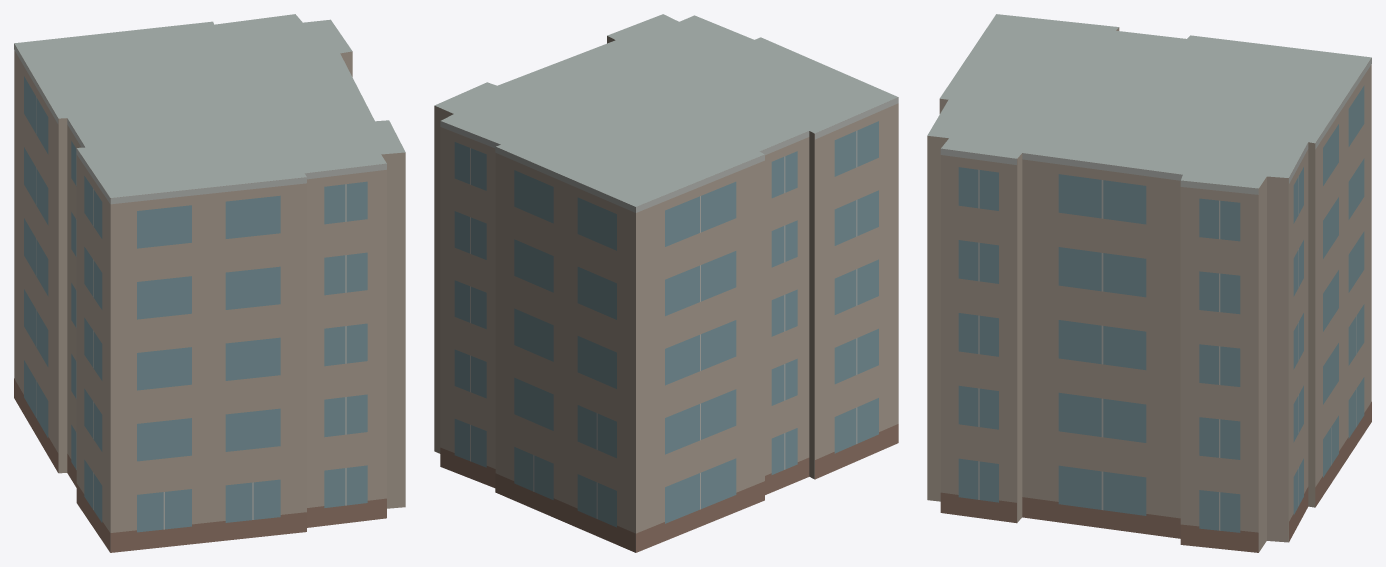
File: survey-upis-32839100.glb
3 renders of one model, left to right at view 1: azimuth 30°, elevation 25°; view 2: azimuth 150°, elevation 25°; view 3: azimuth 270°, elevation 25°, orthographic. The views are drawn at different scales.
Visible parts, largest first — view 1: survey-upis-32839100.tmp; view 2: survey-upis-32839100.tmp; view 3: survey-upis-32839100.tmp.
Boxes of the visible parts, x1,y1,x2,y2 form: survey-upis-32839100.tmp: [14, 14, 405, 552]; survey-upis-32839100.tmp: [434, 14, 898, 552]; survey-upis-32839100.tmp: [927, 14, 1371, 552].
Bounding box in the file's own units: 14.29 × 13.9 × 15.38.
